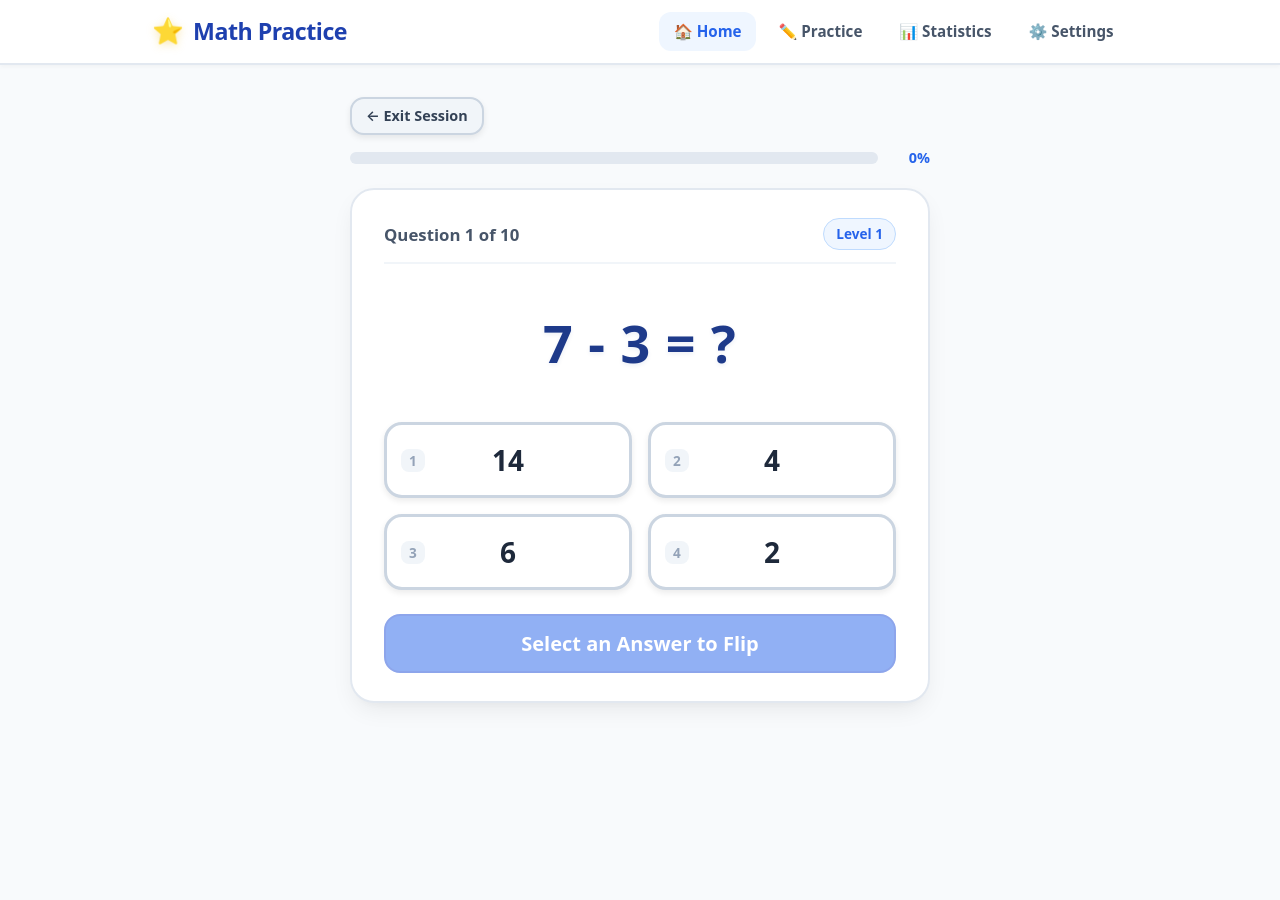
Scenario: PracticePage › allows answering, flipping, and reporting to advance question
Click the button named "choice 1".
click(508, 460)  # box x1=384 y1=422 x2=632 y2=498
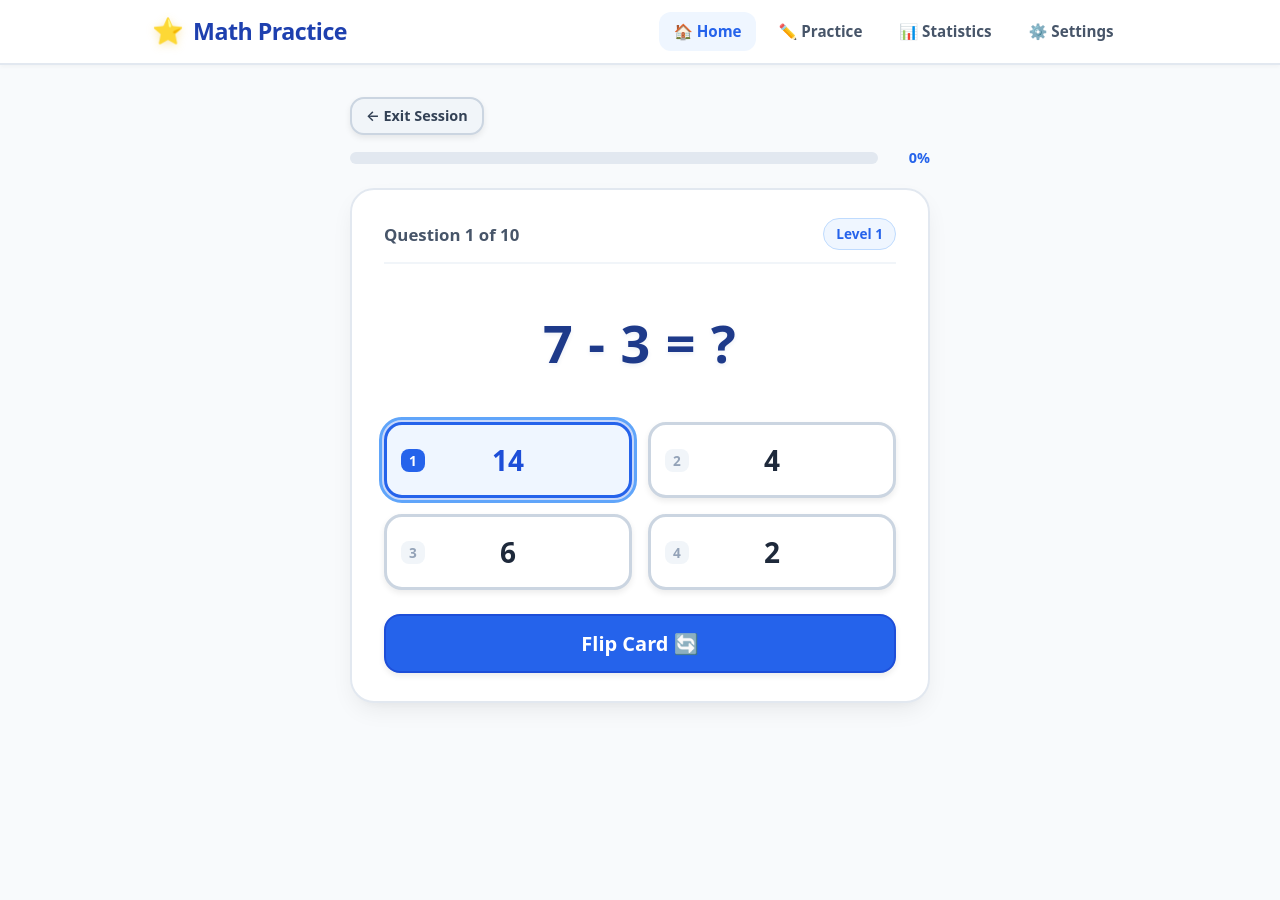
Now the button "Flip Card 🔄" is enabled
Click the button "Flip Card 🔄".
click(640, 644)  # box x1=384 y1=614 x2=896 y2=673
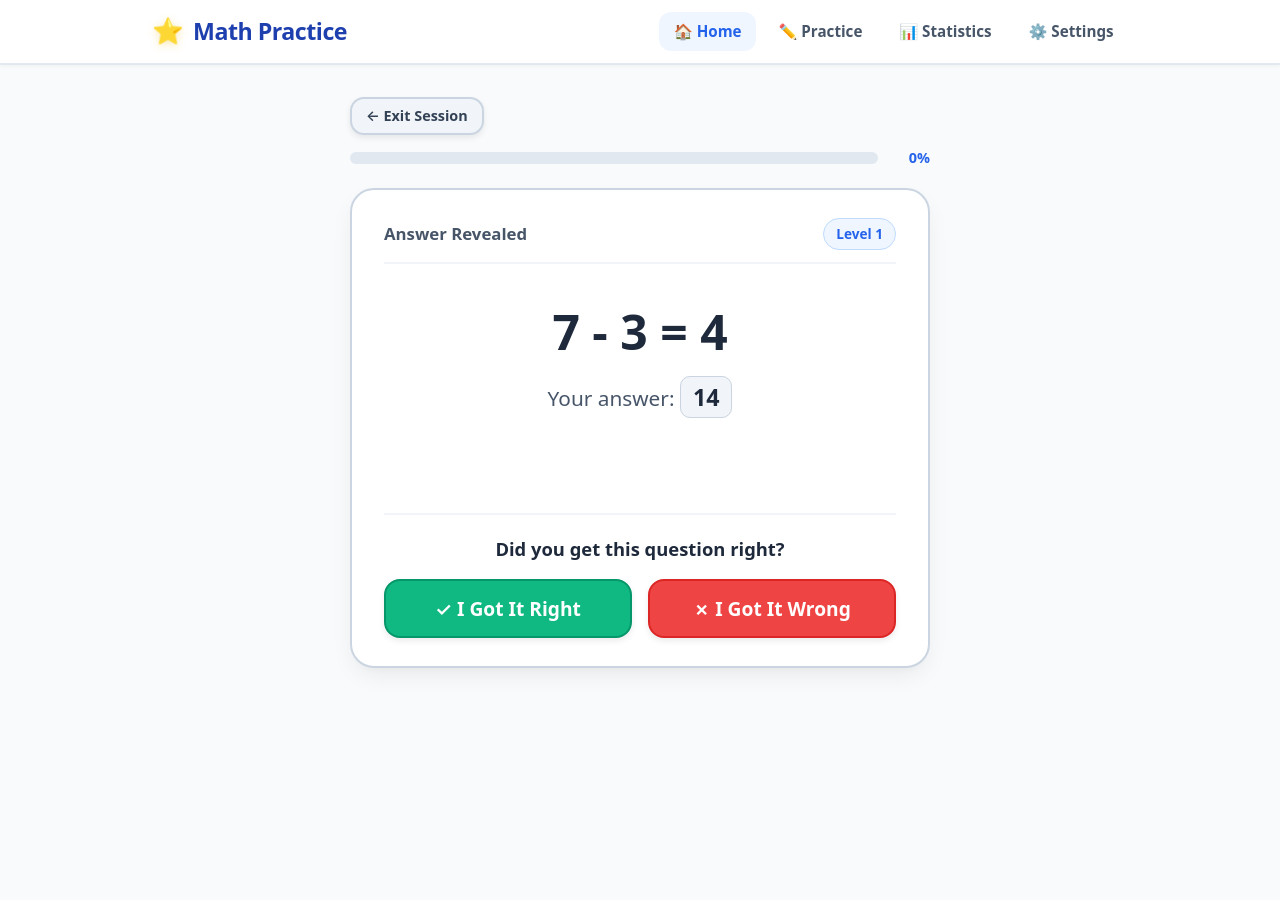
Click the button "✓ I Got It Right".
click(508, 609)  # box x1=384 y1=579 x2=632 y2=638
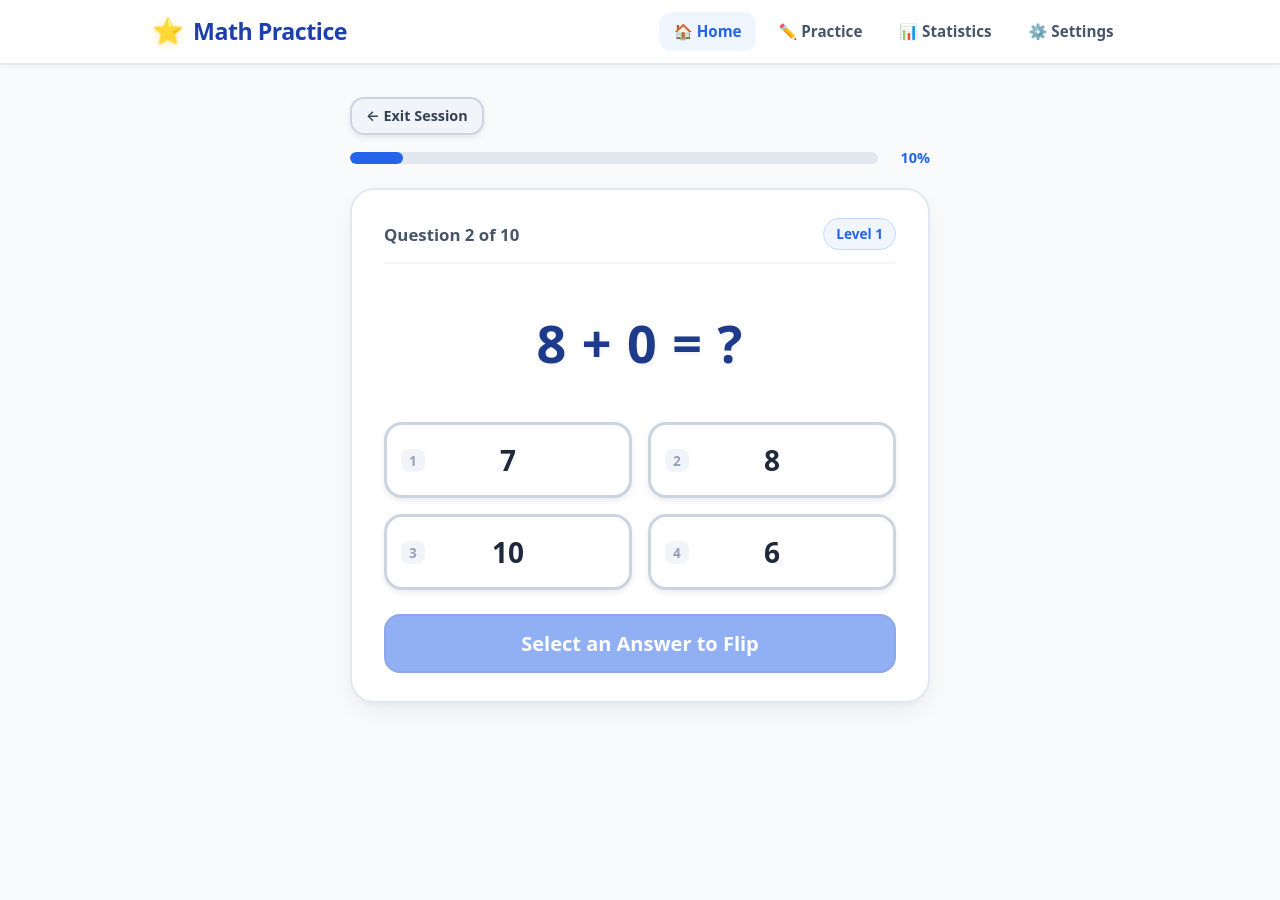
Now the text "Question 2 of 10" is shown, box x1=384 y1=222 x2=519 y2=247
